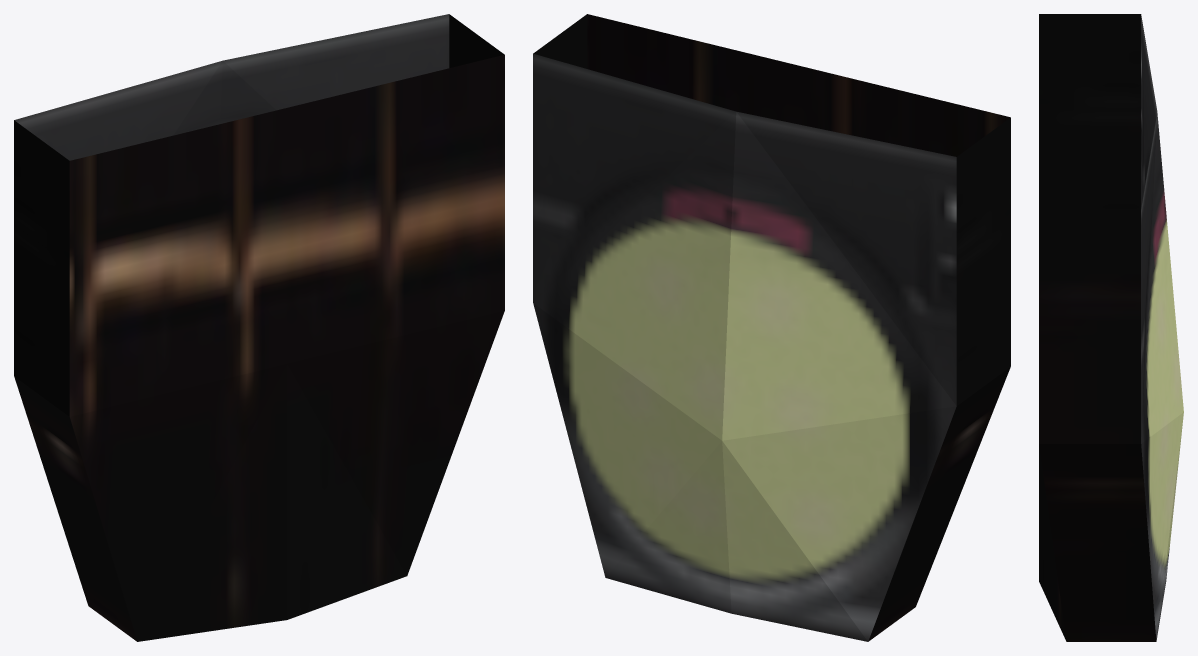
Rendered from light.obj.
3 views of the same model, side by side, from view 1: azimuth 30°, elevation 25°; view 2: azimuth 150°, elevation 25°; view 3: azimuth 270°, elevation 25° (orthographic). The views are drawn at different scales.
Visible parts, largest first — view 1: Cube; view 2: Cube; view 3: Cube.
Part boxes in pixels (left/top/right/bottom): Cube: left=14, top=14, right=504, bottom=641; Cube: left=533, top=14, right=1010, bottom=641; Cube: left=1039, top=14, right=1183, bottom=641.
Size of the model in its own units: 1.49 by 1.67 by 0.4677.
